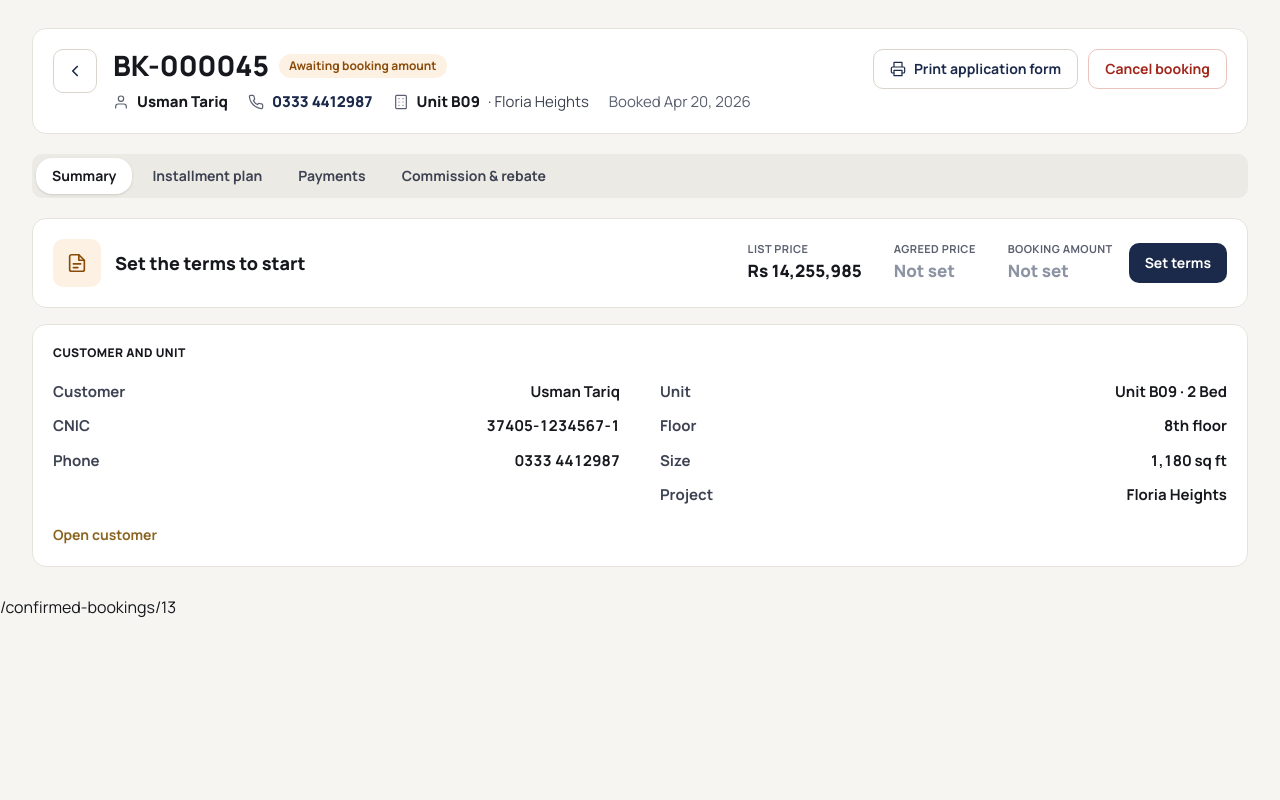
Test: Set terms › asks for a discount reason only while there is a discount, and shows the discount in rupees
Click the button "Set terms": (1178, 263) [1129,243,1227,283]
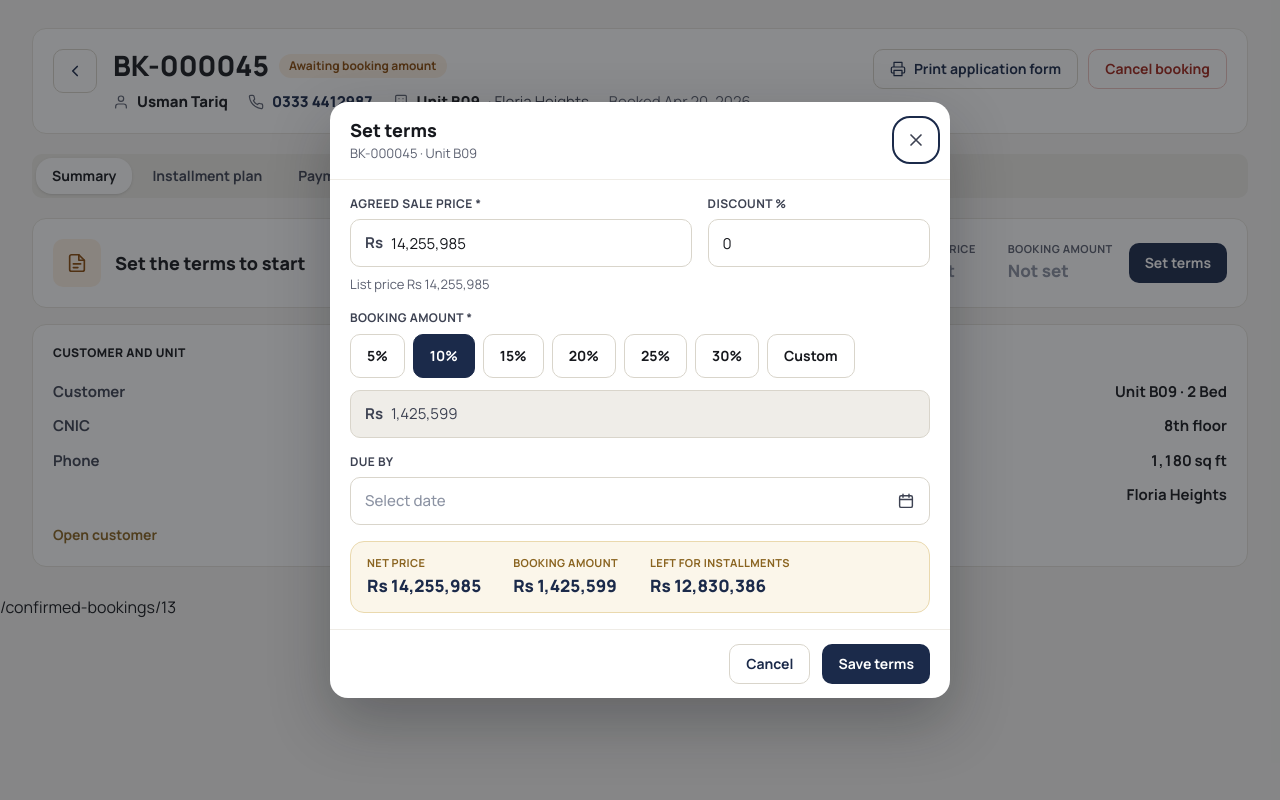
Check: the field labelled "Discount reason" is not shown
Replace the text in the field labelled "Discount %" with "5": (819, 244) [723,220,915,266]
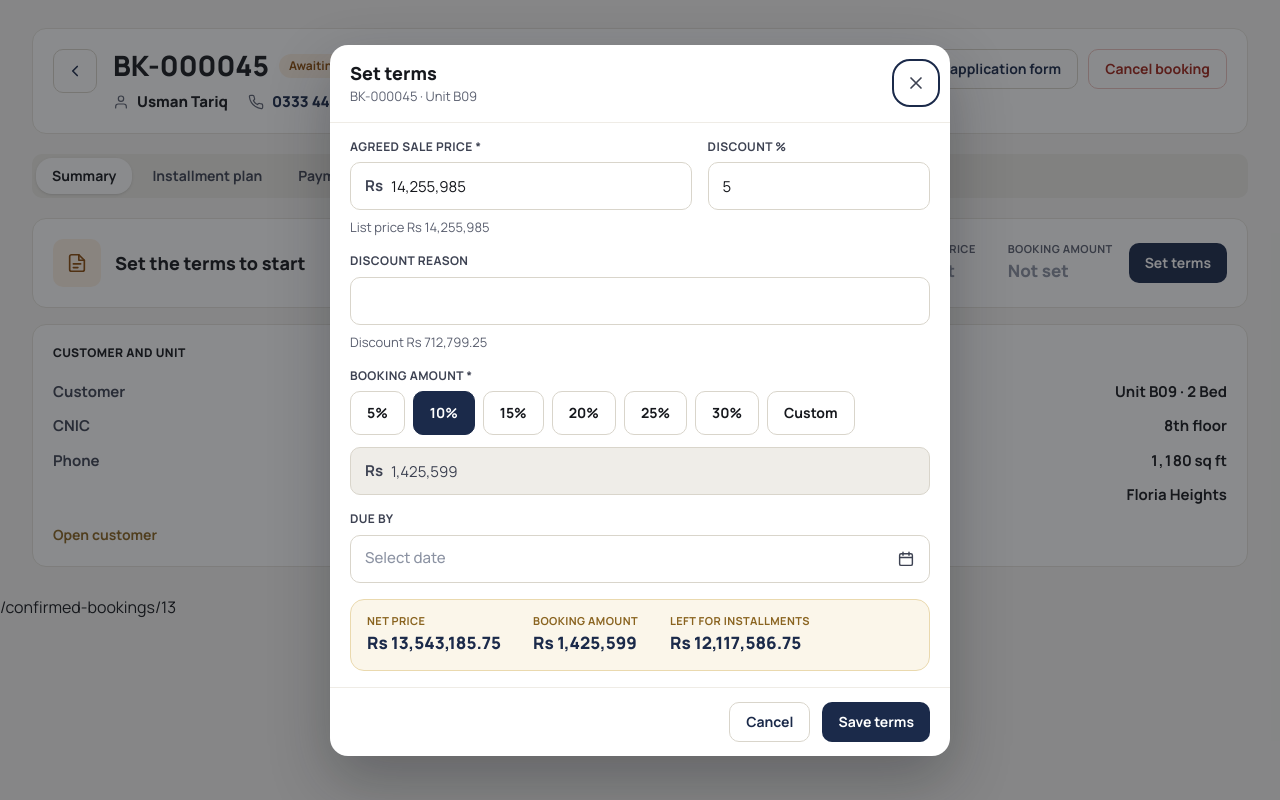
Check: the field labelled "Discount reason" is shown, box [365,278,915,324]
Check: the text "Discount Rs 712,799.25" is shown, box [350,333,487,351]
